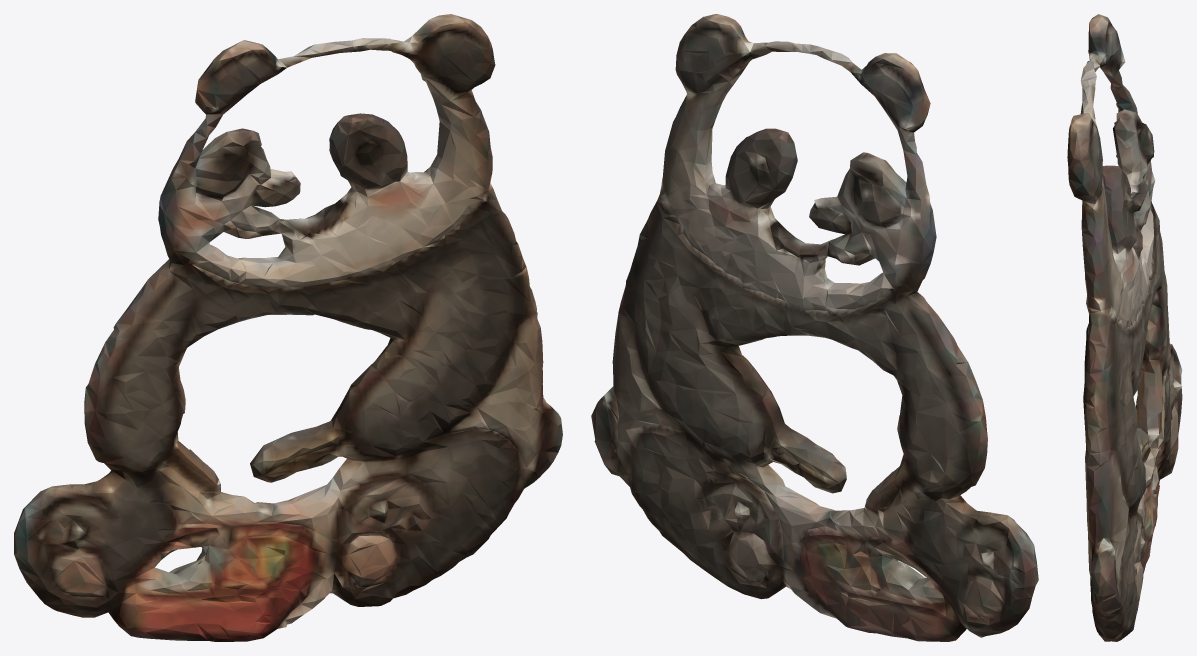
File: daycare_pandatoy.glb
The picture shows the model from 3 angles, left to right: view 1: azimuth 30°, elevation 25°; view 2: azimuth 150°, elevation 25°; view 3: azimuth 270°, elevation 25°; orthographic projection. The views are drawn at different scales.
Visible parts, largest first — view 1: geometry_0; view 2: geometry_0; view 3: geometry_0.
Part boxes in pixels (bbox=[...]): geometry_0: bbox=[14, 14, 562, 641]; geometry_0: bbox=[591, 14, 1038, 641]; geometry_0: bbox=[1067, 14, 1182, 641].
Bounding box in the file's own units: 0.35 × 0.4 × 0.0749.
Materials: 1 (1 with a texture image).
